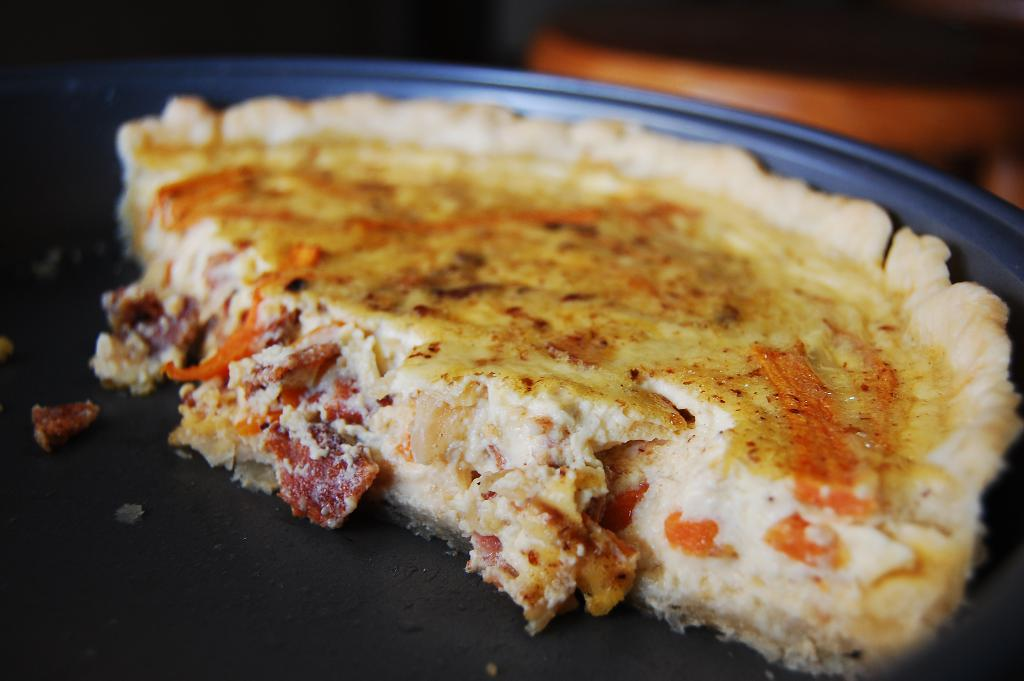Pizza: (40, 64, 1011, 664)
